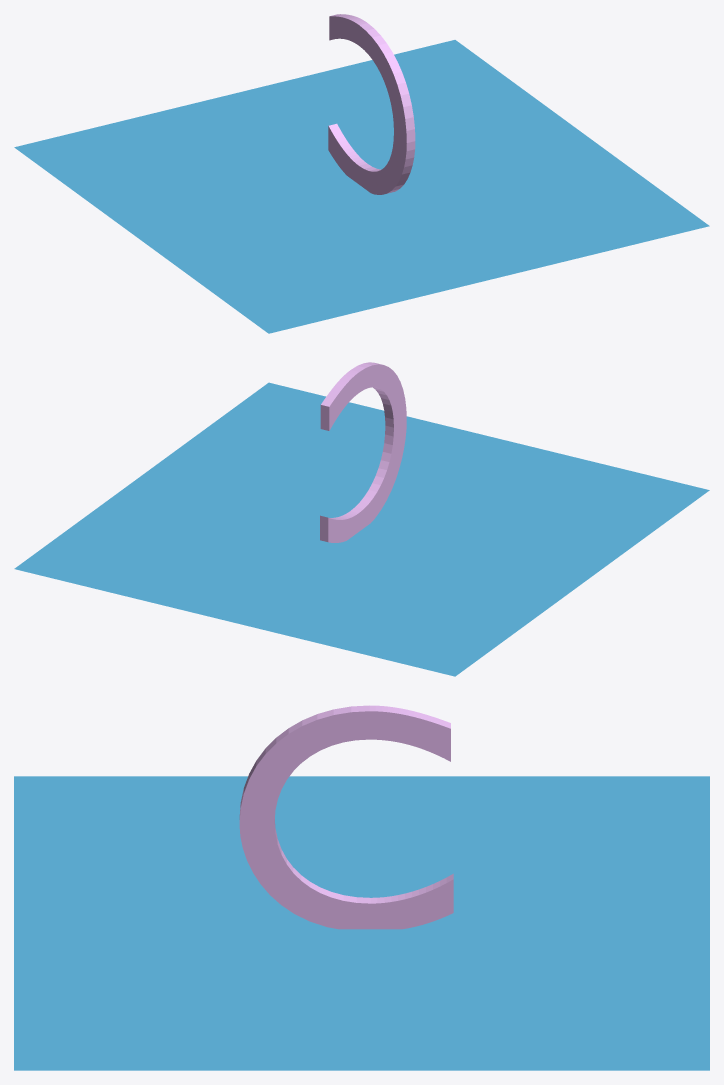
File: store_placeholder.glb
The picture shows the model from 3 angles, top to bottom: view 1: azimuth 30°, elevation 25°; view 2: azimuth 150°, elevation 25°; view 3: azimuth 270°, elevation 25°; orthographic projection. The views are drawn at different scales.
Parts seen in each view (by area): view 1: Plane; view 2: Plane; view 3: Plane.
Part boxes in pixels (x1,y1,x2,y2): Plane: [14, 14, 709, 333]; Plane: [14, 362, 709, 676]; Plane: [14, 705, 709, 1070].
Size of the model in its own units: 20 by 7 by 20.
